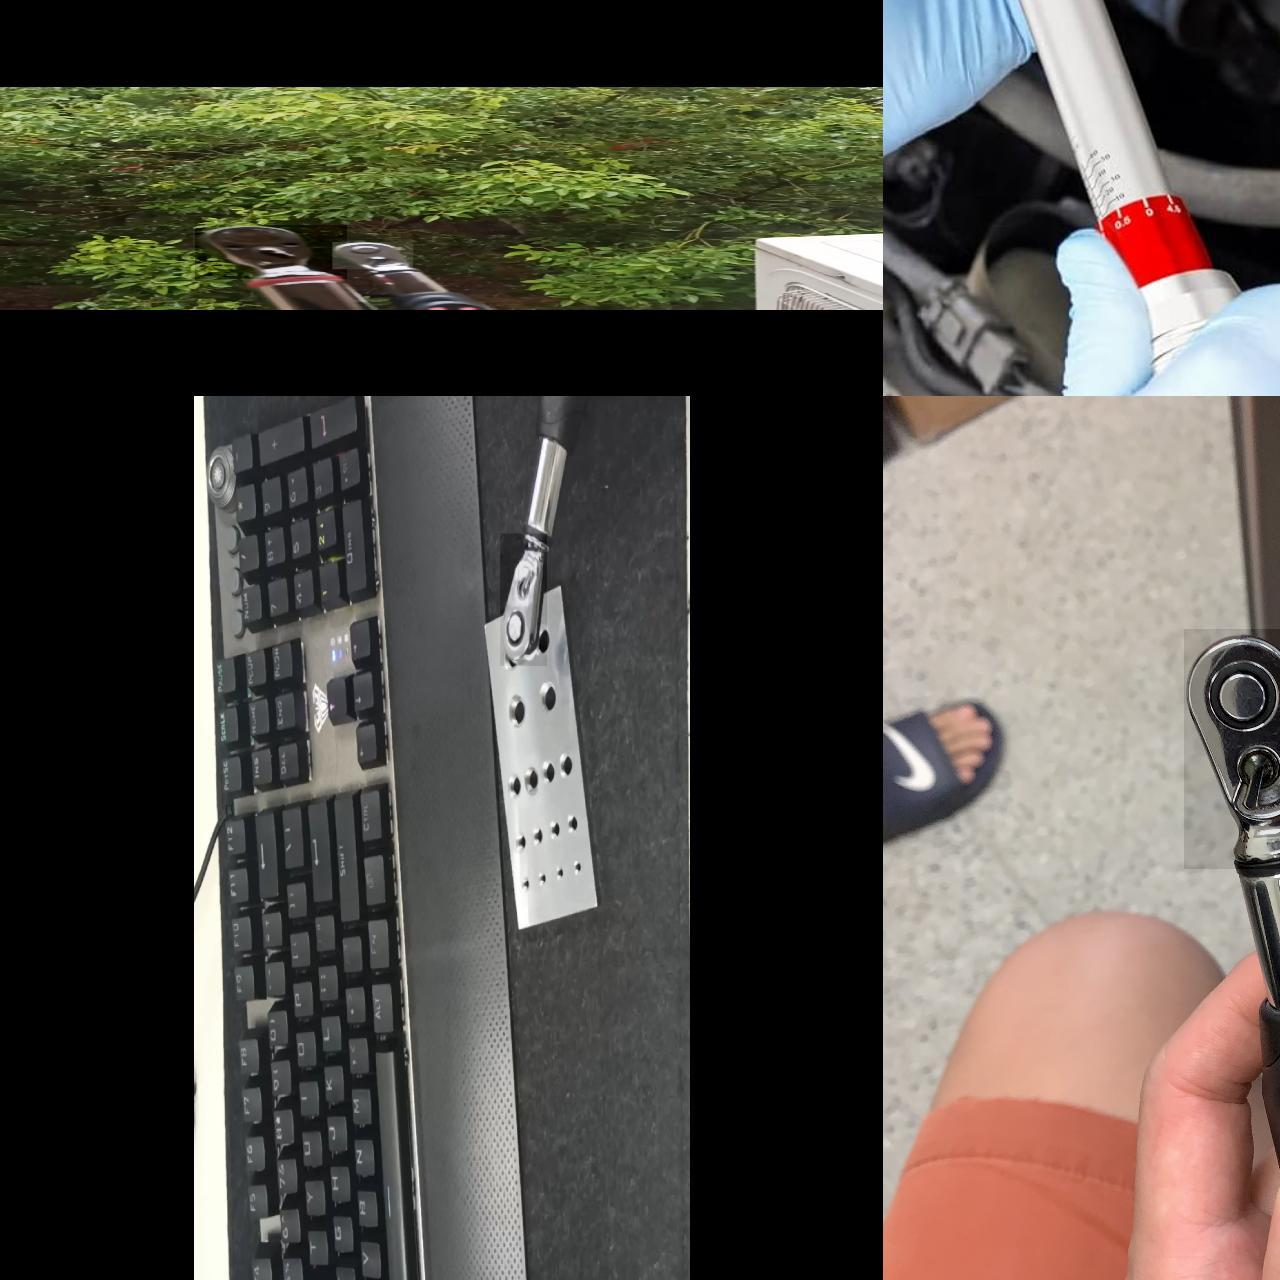Tool: (1183, 629, 1280, 869), (194, 225, 346, 279), (499, 534, 546, 666), (331, 241, 412, 269)
